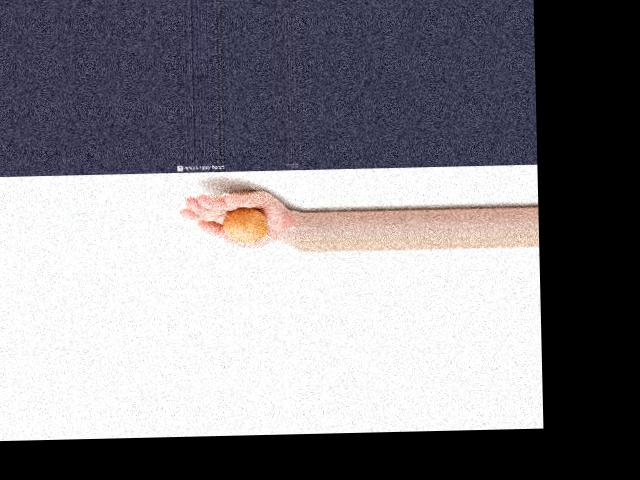egg: (223, 207, 269, 244)
